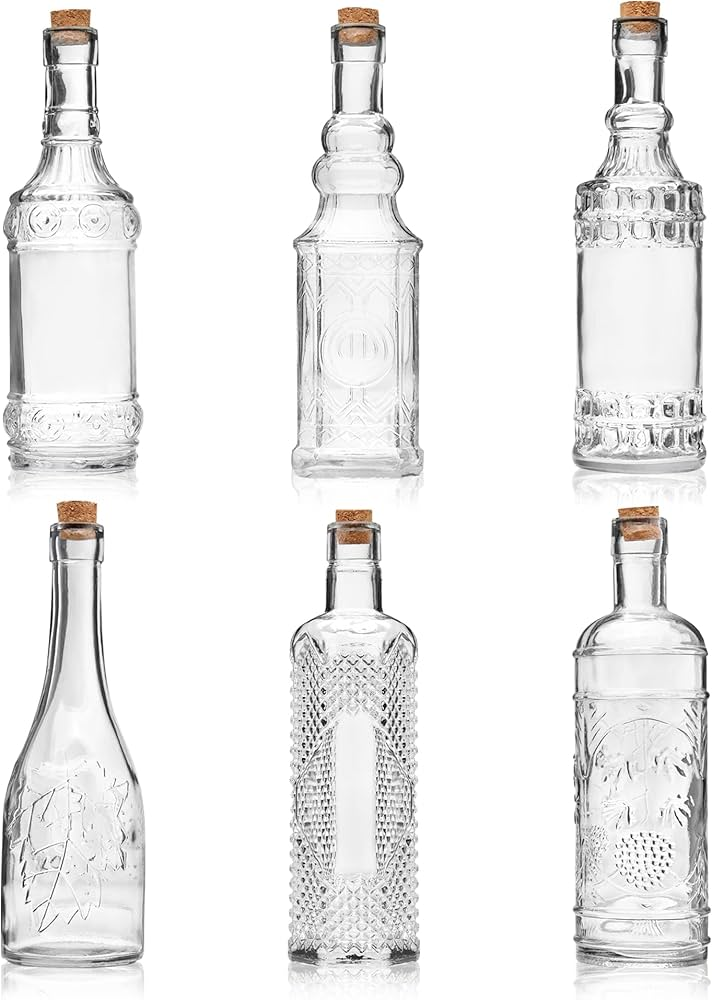glass_bottle: (272, 3, 437, 487), (274, 501, 439, 979), (551, 1, 712, 482), (2, 5, 160, 484), (1, 495, 157, 974), (562, 499, 712, 982)
